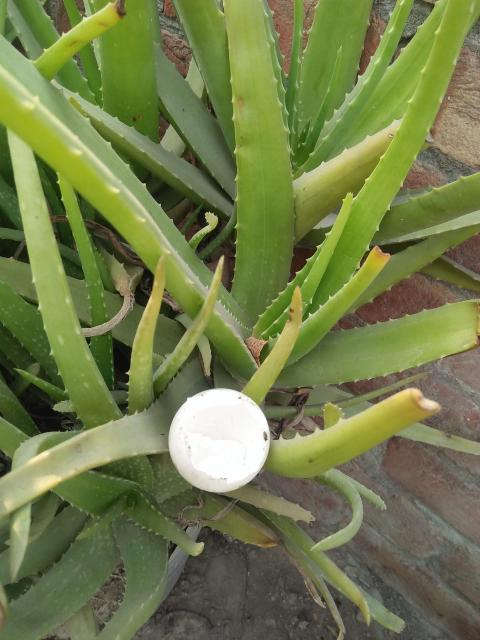Roto: (170, 387, 270, 493)
